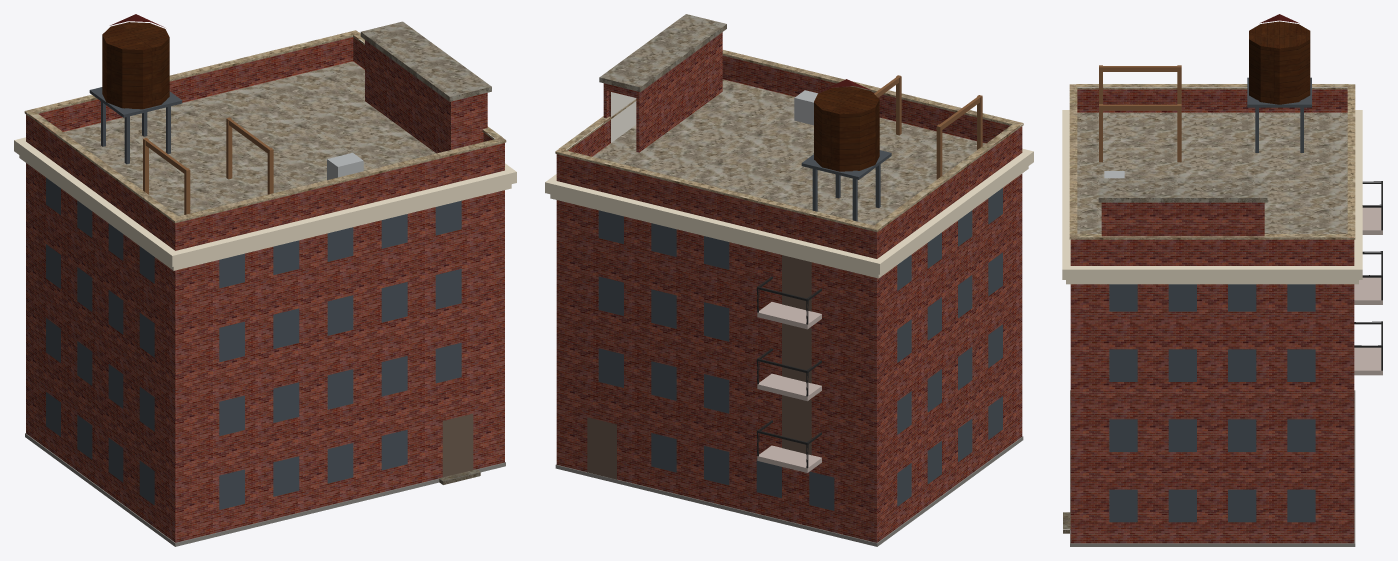
Rendered from ns-brick-walkup.zfix-v22.lod1.glb.
The picture shows the model from 3 angles, left to right: view 1: azimuth 30°, elevation 25°; view 2: azimuth 150°, elevation 25°; view 3: azimuth 270°, elevation 25°; orthographic projection. The views are drawn at different scales.
Parts seen in each view (by area): view 1: ns-brick-walkup; view 2: ns-brick-walkup; view 3: ns-brick-walkup.
Part boxes in pixels (x1,y1,x2,y2): ns-brick-walkup: (14,14,516,546); ns-brick-walkup: (545,14,1033,546); ns-brick-walkup: (1062,14,1382,546).
Bounding box in the file's own units: 14.64 × 17.66 × 12.45.
Materials: 4 (3 with a texture image).
